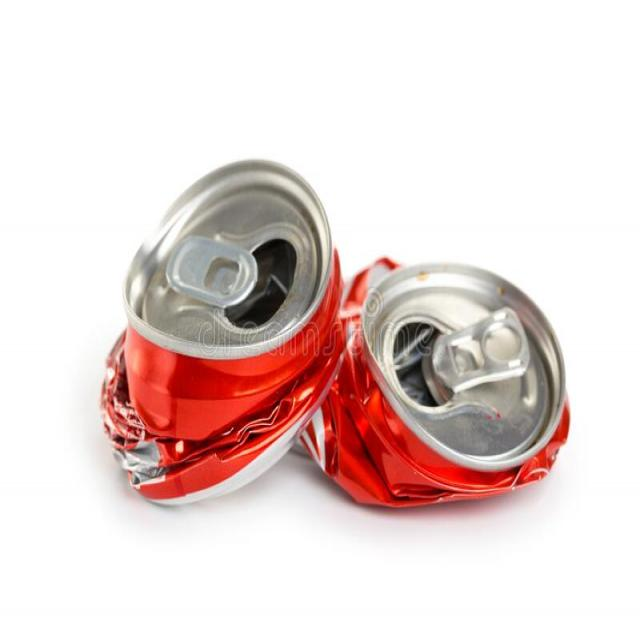non-organic waste: (80, 136, 584, 580)
